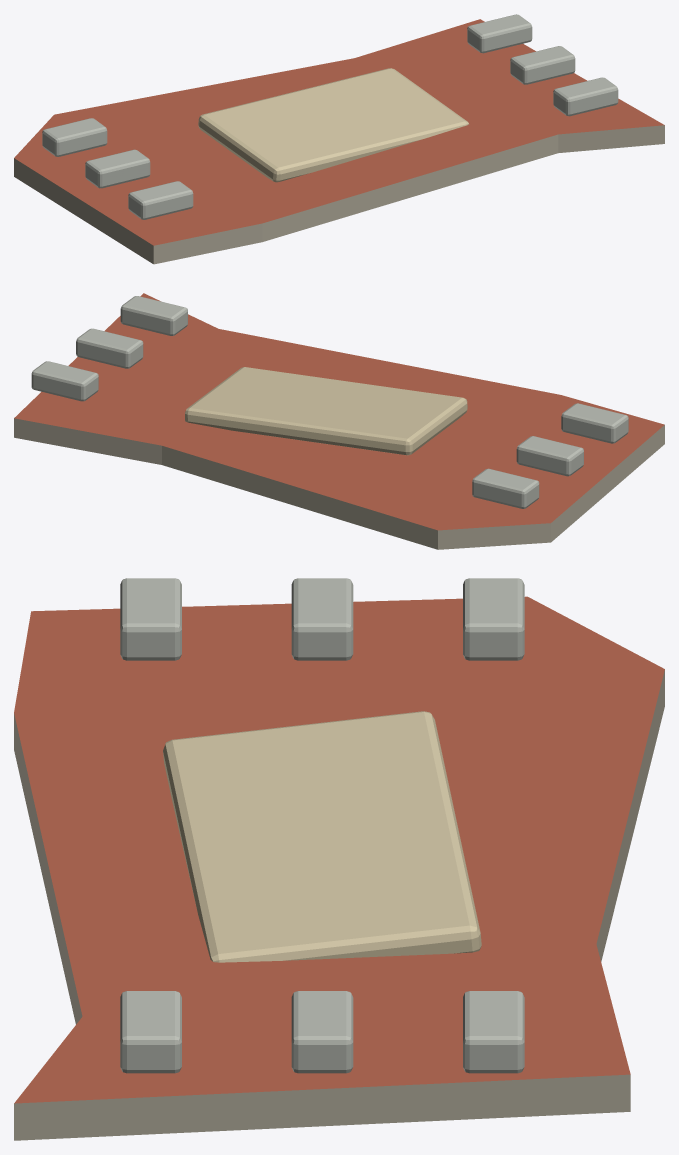
The model's file is Wrapper_Snack.glb.
3 views of the same model, one above another, from view 1: azimuth 30°, elevation 25°; view 2: azimuth 150°, elevation 25°; view 3: azimuth 270°, elevation 25° (orthographic). The views are drawn at different scales.
Visible parts, largest first — view 1: Litter; view 2: Litter; view 3: Litter.
Part boxes in pixels (box(x1,y1,x2,y2)): Litter: box(14, 14, 664, 264); Litter: box(14, 293, 664, 549); Litter: box(14, 578, 664, 1140).
Bounding box in the file's own units: 0.35 × 0.027 × 0.19.
